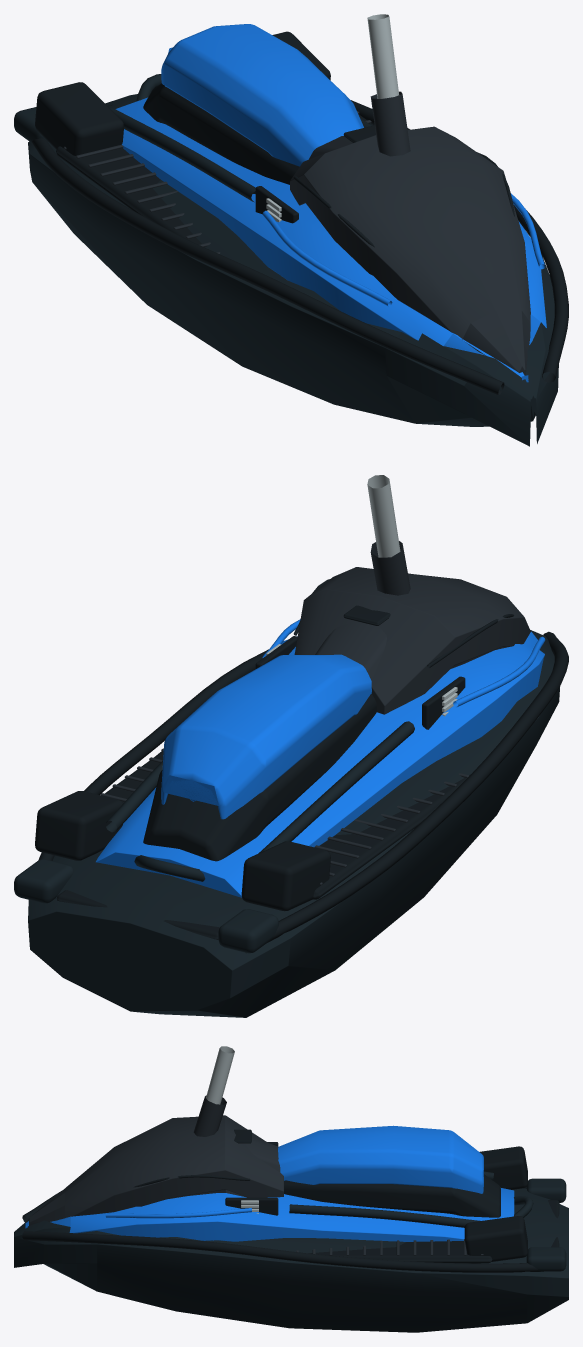
Rendered from sparkplug.glb.
3 renders of one model, top to bottom at view 1: azimuth 30°, elevation 25°; view 2: azimuth 150°, elevation 25°; view 3: azimuth 270°, elevation 25°, orthographic. The views are drawn at different scales.
Parts seen in each view (by area): view 1: Sparkplug shell; view 2: Sparkplug shell; view 3: Sparkplug shell.
Part boxes in pixels (x1,y1,x2,y2): Sparkplug shell: (14, 14, 568, 446); Sparkplug shell: (14, 475, 568, 1017); Sparkplug shell: (14, 1046, 568, 1332).
Bounding box in the file's own units: 1.29 × 1.55 × 2.94.
